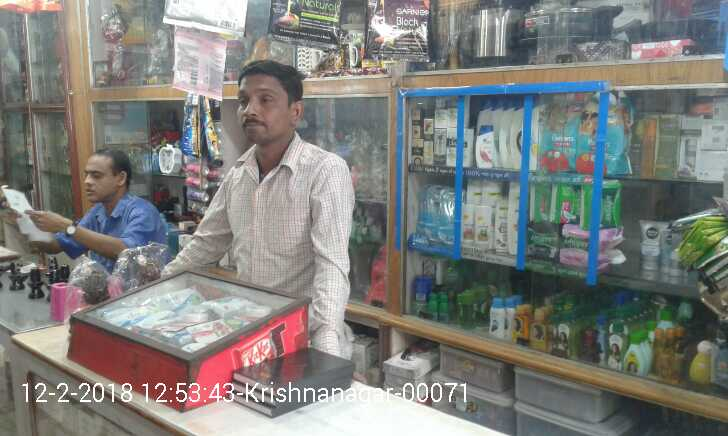venus: (438, 186, 454, 241), (427, 186, 438, 241), (416, 186, 427, 236)
